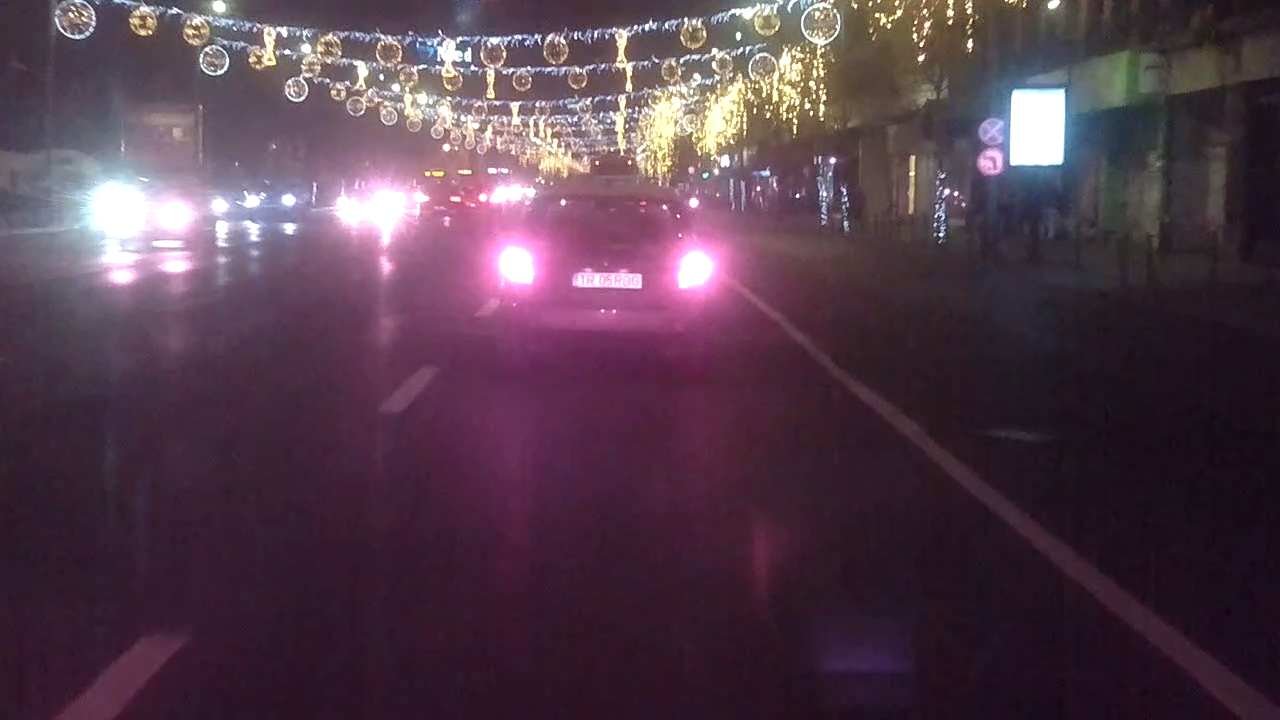license-plate: (567, 268, 645, 291)
